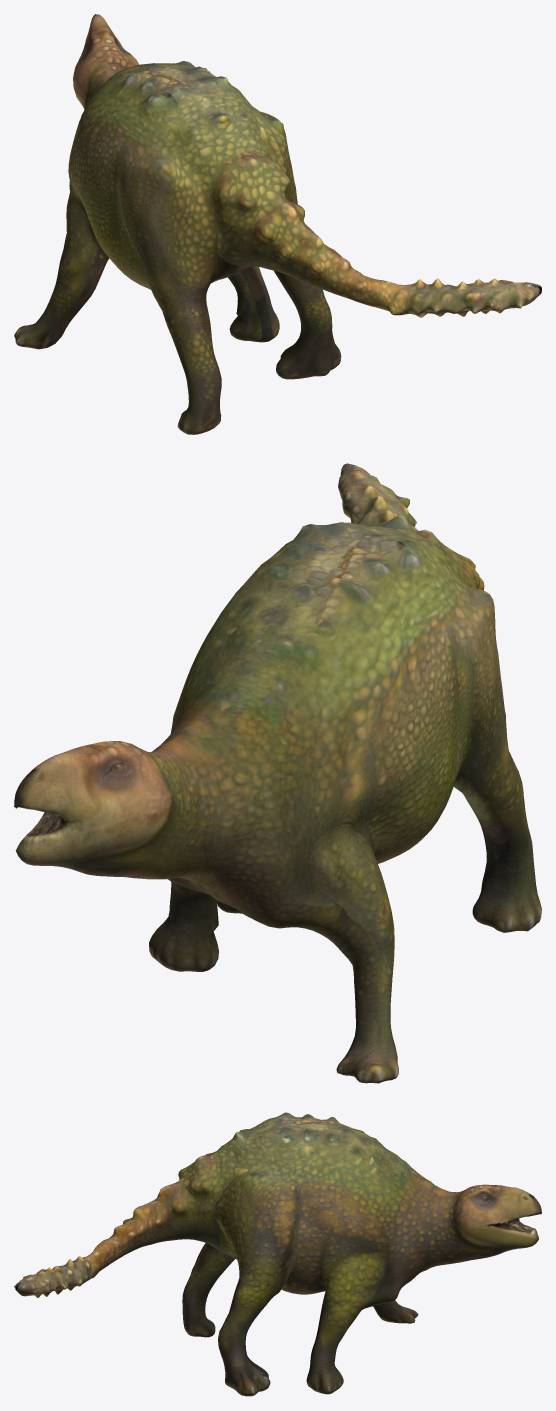
Rendered from 20 Stegouros 3D.glb.
The picture shows the model from 3 angles, top to bottom: view 1: azimuth 30°, elevation 25°; view 2: azimuth 150°, elevation 25°; view 3: azimuth 270°, elevation 25°; orthographic projection. The views are drawn at different scales.
Visible parts, largest first — view 1: Mesh0; view 2: Mesh0; view 3: Mesh0.
Boxes of the visible parts, left/top/right/bottom form: Mesh0: left=14, top=14, right=541, bottom=434; Mesh0: left=14, top=463, right=541, bottom=1083; Mesh0: left=14, top=1112, right=541, bottom=1396.
Size of the model in its own units: 7.15 by 7.2 by 14.91.
Materials: 1 (1 with a texture image).
